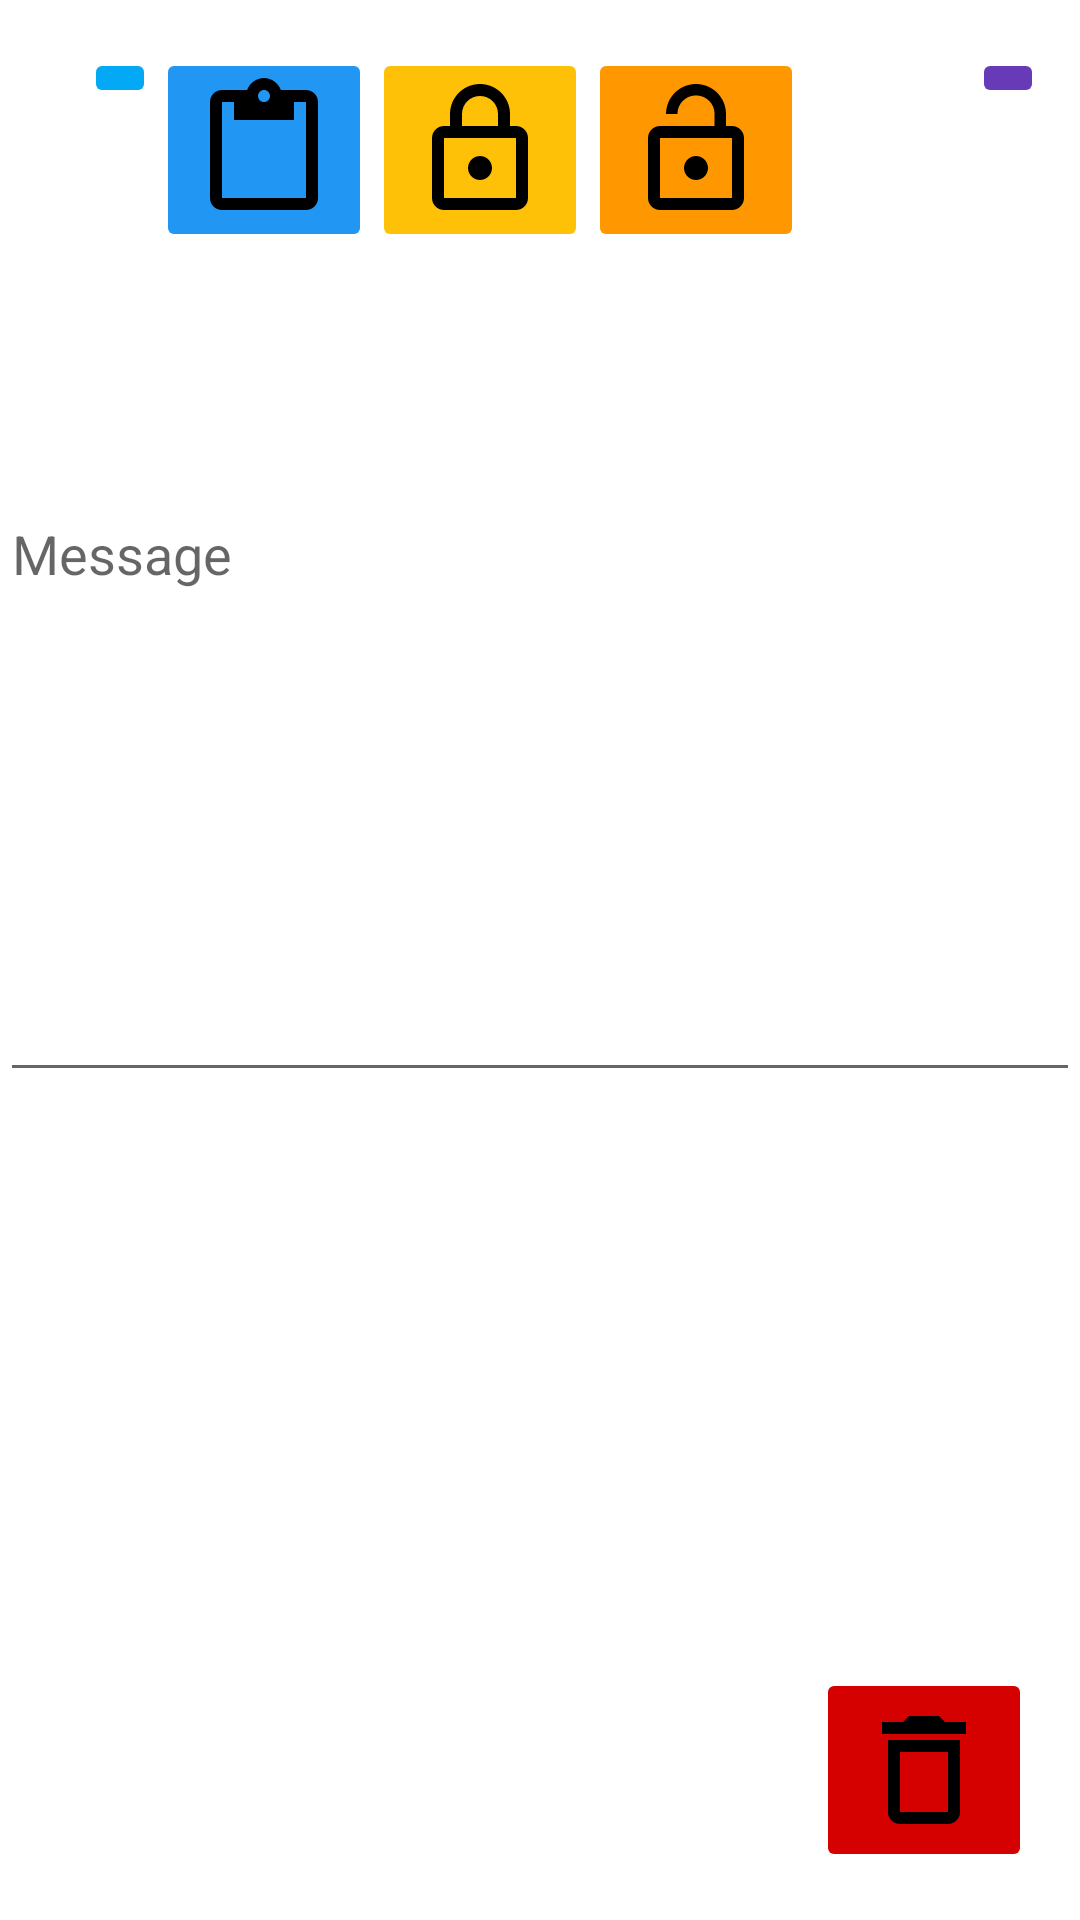

Where icons sit on this 1080 × 1920 app screen, as (x1, y1, x2, y2):
content paste: (168, 66, 360, 234)
delete: (828, 1686, 1020, 1854)
lock: (384, 66, 576, 234)
lock open: (600, 66, 792, 234)
